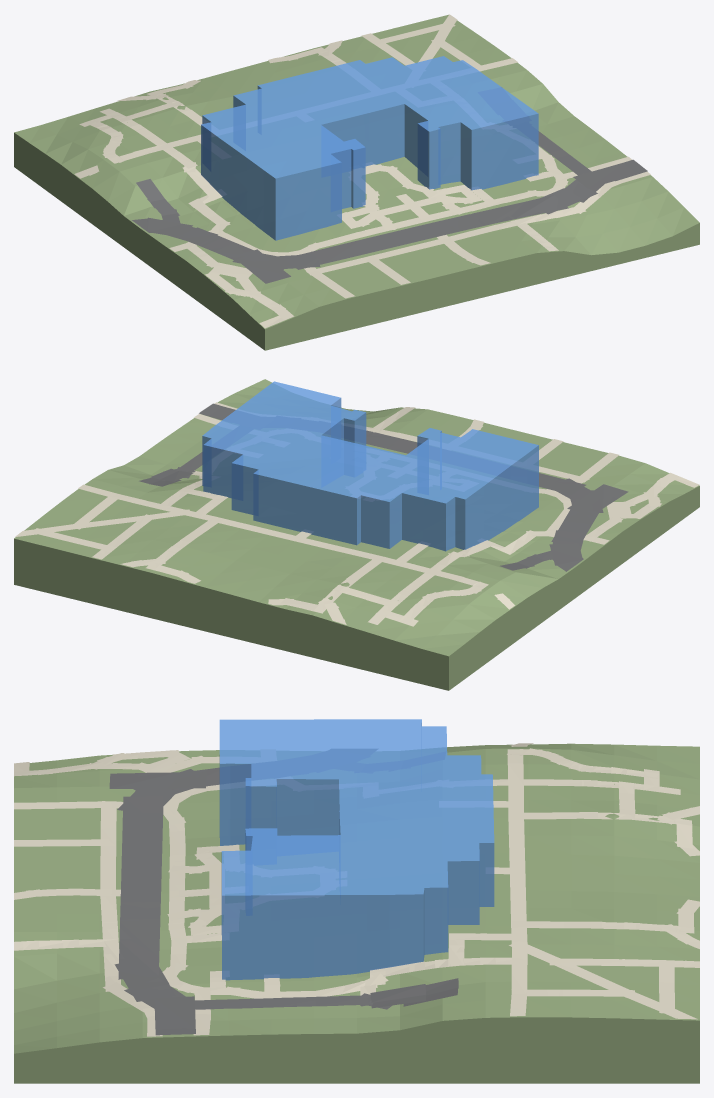
The model's file is coffman.glb.
The picture shows the model from 3 angles, top to bottom: view 1: azimuth 30°, elevation 25°; view 2: azimuth 150°, elevation 25°; view 3: azimuth 270°, elevation 25°; orthographic projection. The views are drawn at different scales.
Visible parts, largest first — view 1: ground, Coffman Memorial Union, paths, roads; view 2: ground, Coffman Memorial Union, paths, roads; view 3: ground, Coffman Memorial Union, paths, roads.
Part boxes in pixels (x1=…): ground: x1=14, y1=14, x2=699, y2=350; Coffman Memorial Union: x1=201, y1=56, x2=538, y2=240; paths: x1=74, y1=14, x2=650, y2=328; roads: x1=132, y1=87, x2=647, y2=283; ground: x1=14, y1=379, x2=699, y2=690; Coffman Memorial Union: x1=202, y1=381, x2=538, y2=551; paths: x1=15, y1=402, x2=699, y2=626; roads: x1=139, y1=403, x2=628, y2=571; ground: x1=14, y1=743, x2=699, y2=1083; Coffman Memorial Union: x1=219, y1=719, x2=494, y2=980; paths: x1=14, y1=743, x2=699, y2=1036; roads: x1=109, y1=749, x2=458, y2=1035.
Bounding box in the file's own units: 0.5 × 0.1056 × 0.5.
